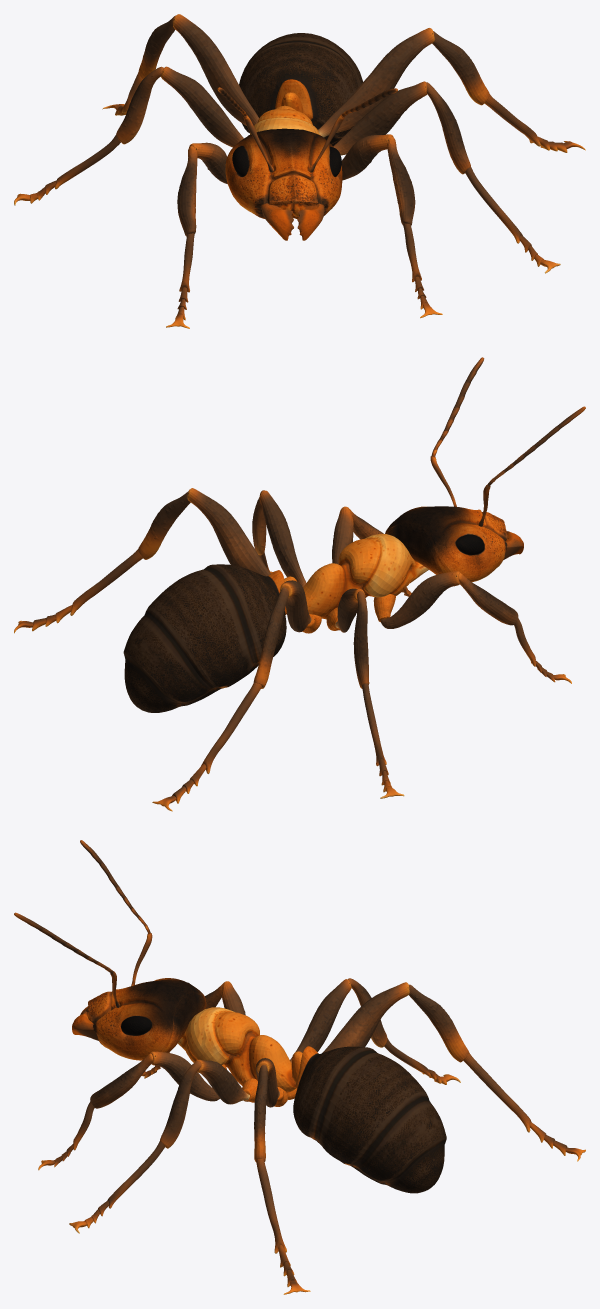
File: ant.gltf
The picture shows the model from 3 angles, top to bottom: view 1: azimuth 30°, elevation 25°; view 2: azimuth 150°, elevation 25°; view 3: azimuth 270°, elevation 25°; orthographic projection. The views are drawn at different scales.
Parts seen in each view (by area): view 1: Ant_05_001; view 2: Ant_05_001; view 3: Ant_05_001.
Boxes of the visible parts, bbox=[...] form: Ant_05_001: bbox=[14, 14, 585, 328]; Ant_05_001: bbox=[14, 357, 585, 811]; Ant_05_001: bbox=[14, 840, 585, 1294].
Size of the model in its own units: 3.37 by 1.69 by 3.64.
Materials: 3 (3 with a texture image).
